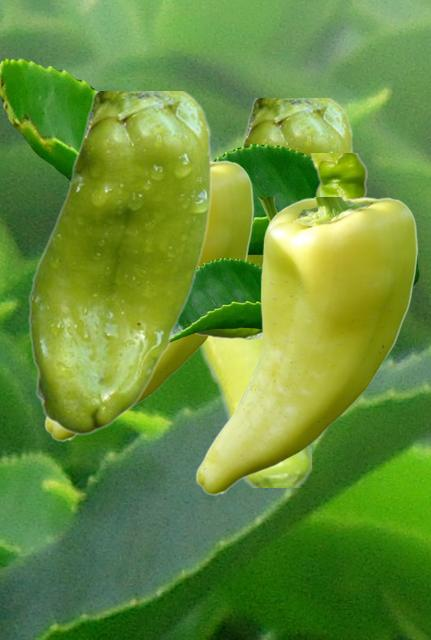green_chili: (195, 197, 417, 495), (28, 91, 210, 434), (44, 160, 253, 441), (195, 153, 367, 340), (241, 98, 352, 265), (196, 338, 310, 486)
